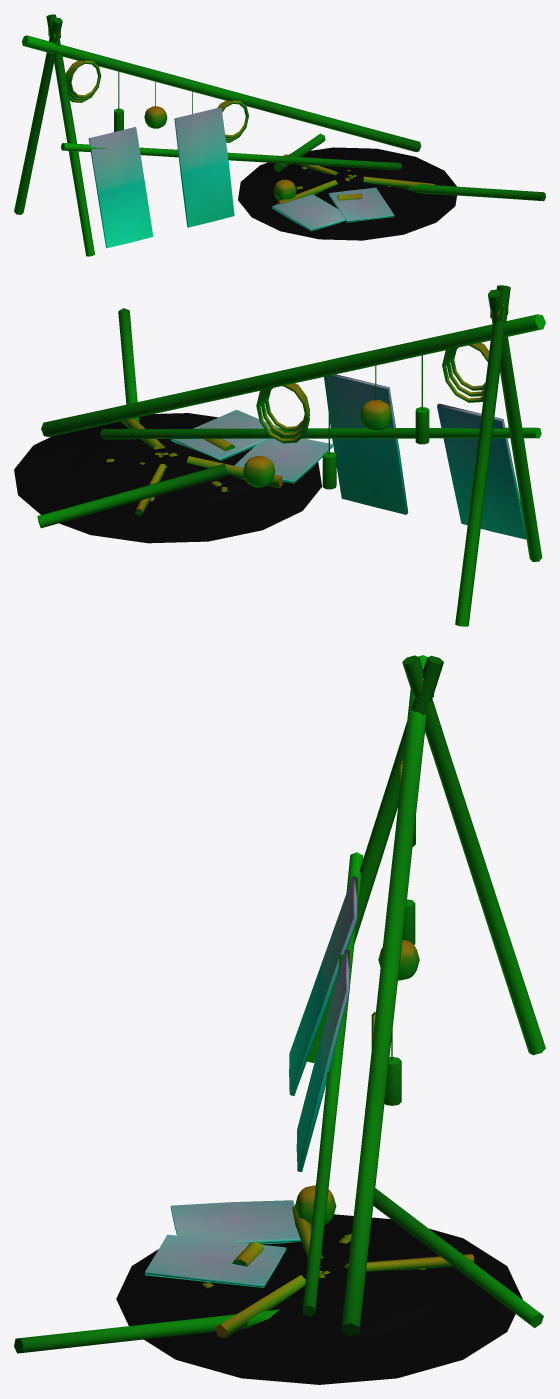
The model's file is salvage_rack_burned.glb.
The picture shows the model from 3 angles, top to bottom: view 1: azimuth 30°, elevation 25°; view 2: azimuth 150°, elevation 25°; view 3: azimuth 270°, elevation 25°; orthographic projection. The views are drawn at different scales.
Parts seen in each view (by area): view 1: salvage_rack_burned; view 2: salvage_rack_burned; view 3: salvage_rack_burned.
Part boxes in pixels (x1,y1,x2,y2): salvage_rack_burned: (14, 14, 545, 256); salvage_rack_burned: (14, 285, 545, 626); salvage_rack_burned: (14, 655, 545, 1384).
Size of what is drawn, in the model's own units: 4.21 by 2.15 by 2.56.
